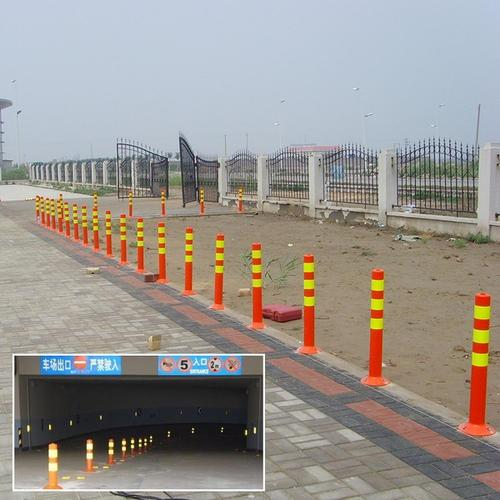cone_barrel: (453, 291, 496, 435), (354, 268, 393, 386), (293, 252, 320, 352), (241, 240, 270, 323), (207, 232, 228, 303), (40, 439, 62, 490), (180, 225, 196, 293), (154, 220, 167, 280), (134, 216, 145, 272), (195, 185, 205, 212)
